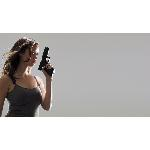Pistol: (37, 42, 61, 82)
